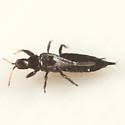Phlaeothripidae: (1, 40, 119, 94)
